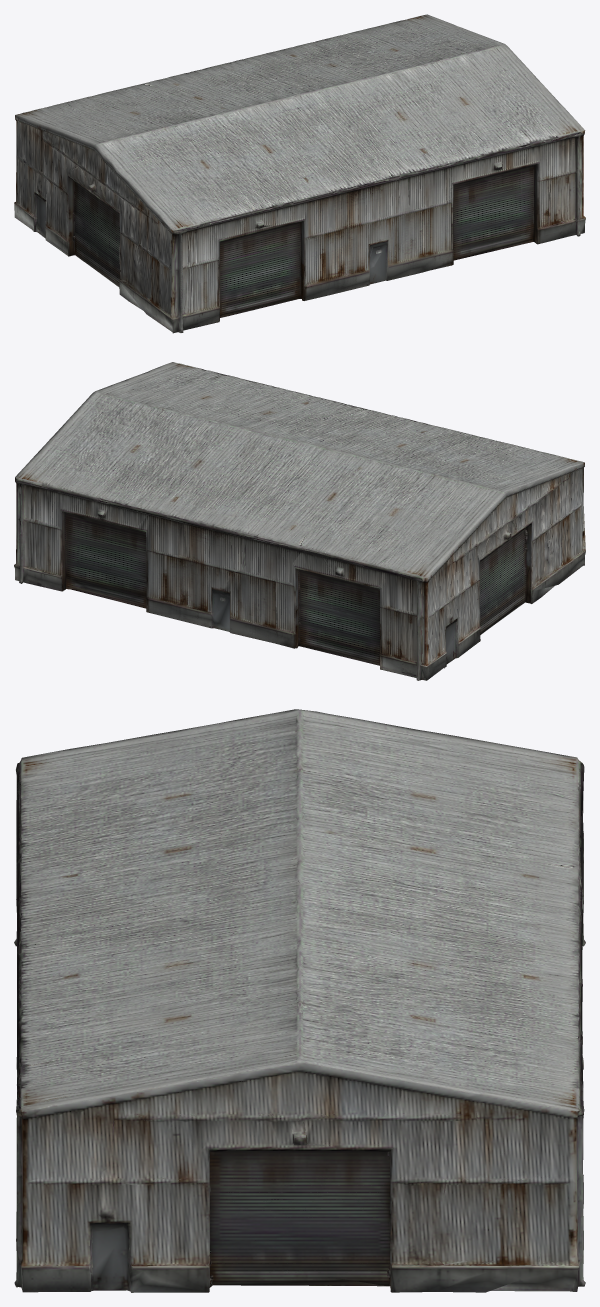
Rendered from building-warehouse.glb.
The picture shows the model from 3 angles, top to bottom: view 1: azimuth 30°, elevation 25°; view 2: azimuth 150°, elevation 25°; view 3: azimuth 270°, elevation 25°; orthographic projection. The views are drawn at different scales.
Visible parts, largest first — view 1: Mesh_0; view 2: Mesh_0; view 3: Mesh_0.
Part boxes in pixels (bbox=[...]): Mesh_0: bbox=[14, 14, 585, 333]; Mesh_0: bbox=[14, 362, 585, 680]; Mesh_0: bbox=[14, 709, 585, 1292].
Size of the model in its own units: 1.9 by 0.5692 by 1.27.
Materials: 1 (1 with a texture image).
